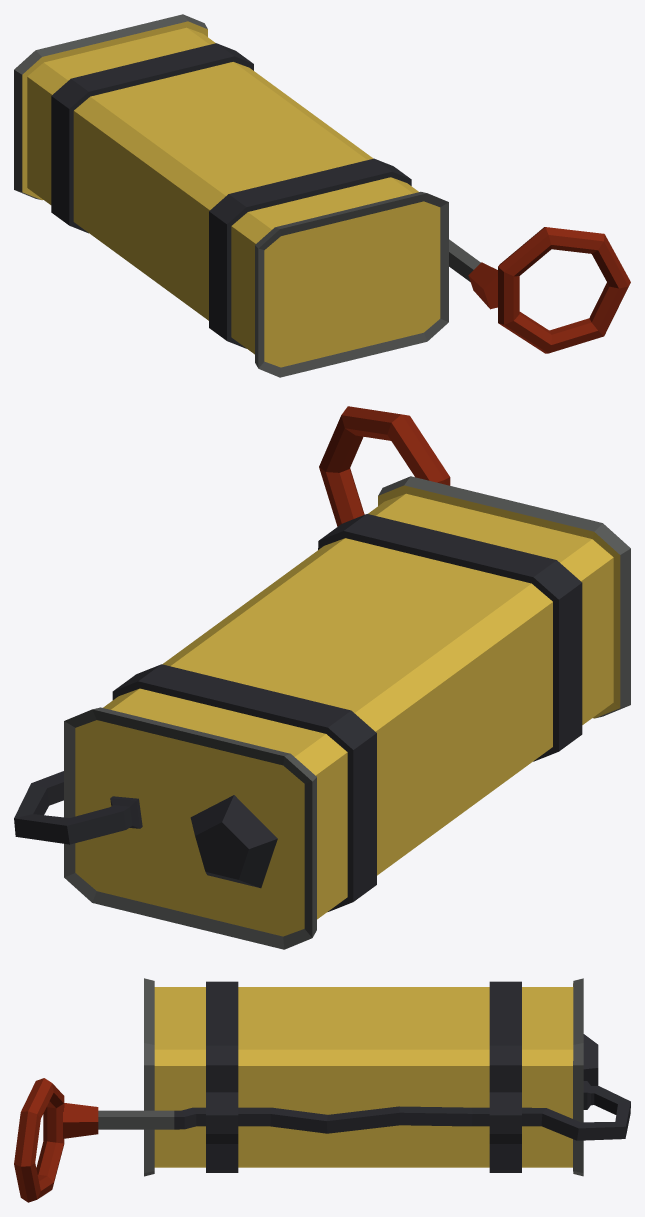
The model's file is LPWarPack_Bomb.fbx.
The picture shows the model from 3 angles, top to bottom: view 1: azimuth 30°, elevation 25°; view 2: azimuth 150°, elevation 25°; view 3: azimuth 270°, elevation 25°; orthographic projection. The views are drawn at different scales.
Parts seen in each view (by area): view 1: Bomb; view 2: Bomb; view 3: Bomb.
Boxes of the visible parts, left/top/right/bottom form: Bomb: left=14, top=14, right=630, bottom=377; Bomb: left=14, top=406, right=630, bottom=949; Bomb: left=14, top=978, right=630, bottom=1202.
Bounding box in the file's own units: 20.06 × 9.36 × 39.21.
